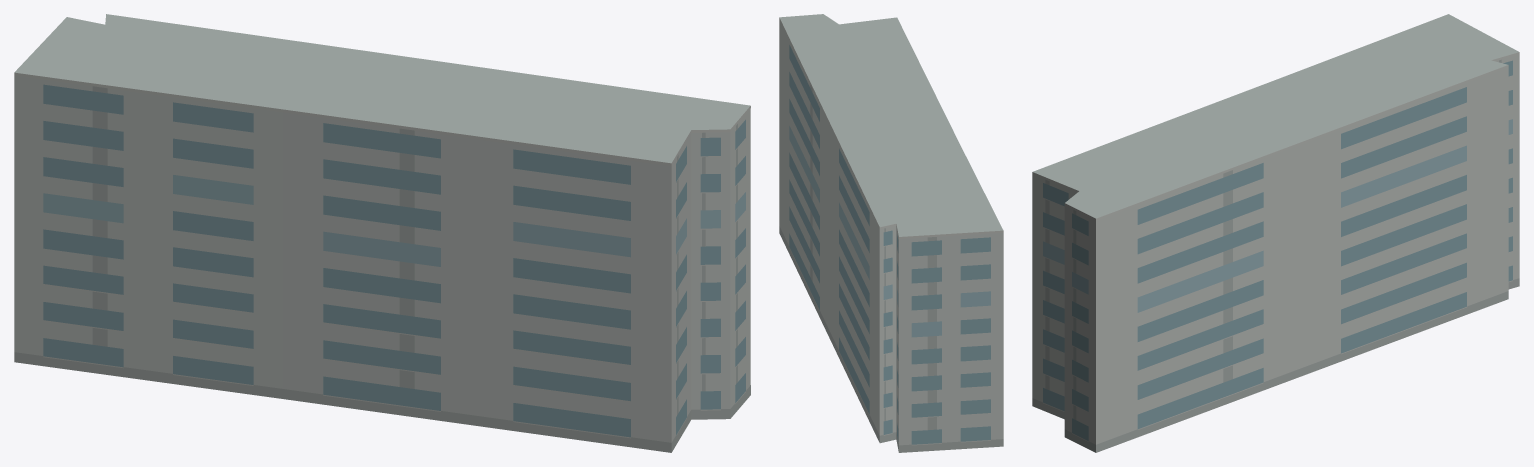
File: residential-531ef65a-fbf6-4637-8798-c6ac34586bcd.glb
3 renders of one model, left to right at view 1: azimuth 30°, elevation 25°; view 2: azimuth 150°, elevation 25°; view 3: azimuth 270°, elevation 25°, orthographic. The views are drawn at different scales.
Visible parts, largest first — view 1: residential-531ef65a-fbf6-4637-8798-c6ac34586bcd.tmp; view 2: residential-531ef65a-fbf6-4637-8798-c6ac34586bcd.tmp; view 3: residential-531ef65a-fbf6-4637-8798-c6ac34586bcd.tmp.
Boxes of the visible parts, x1,y1,x2,y2 form: residential-531ef65a-fbf6-4637-8798-c6ac34586bcd.tmp: [14, 14, 750, 452]; residential-531ef65a-fbf6-4637-8798-c6ac34586bcd.tmp: [779, 14, 1003, 452]; residential-531ef65a-fbf6-4637-8798-c6ac34586bcd.tmp: [1032, 14, 1519, 452].
Size of the model in its own units: 45.73 by 24.4 by 46.01.
